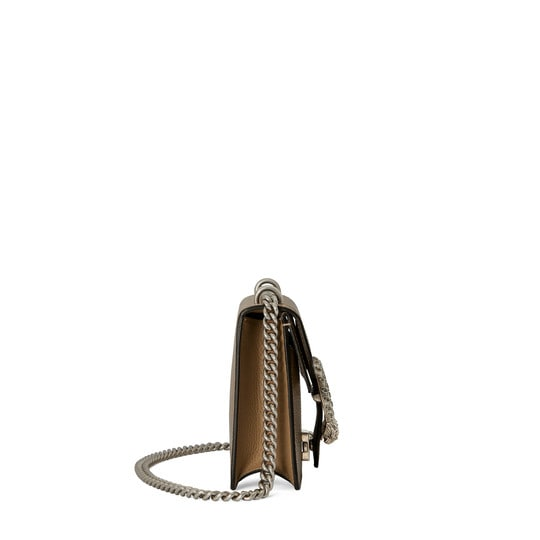Gucci: (212, 269, 348, 492), (307, 336, 344, 441)
